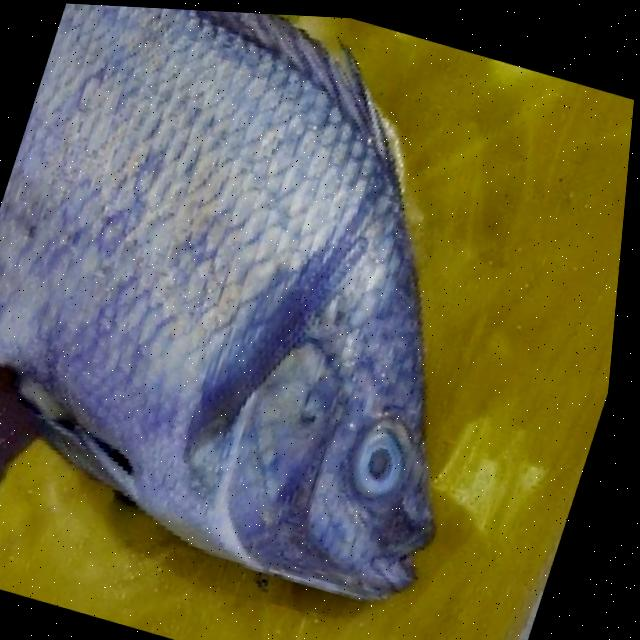Non-Fresh: (0, 0, 599, 640), (335, 405, 448, 525)
